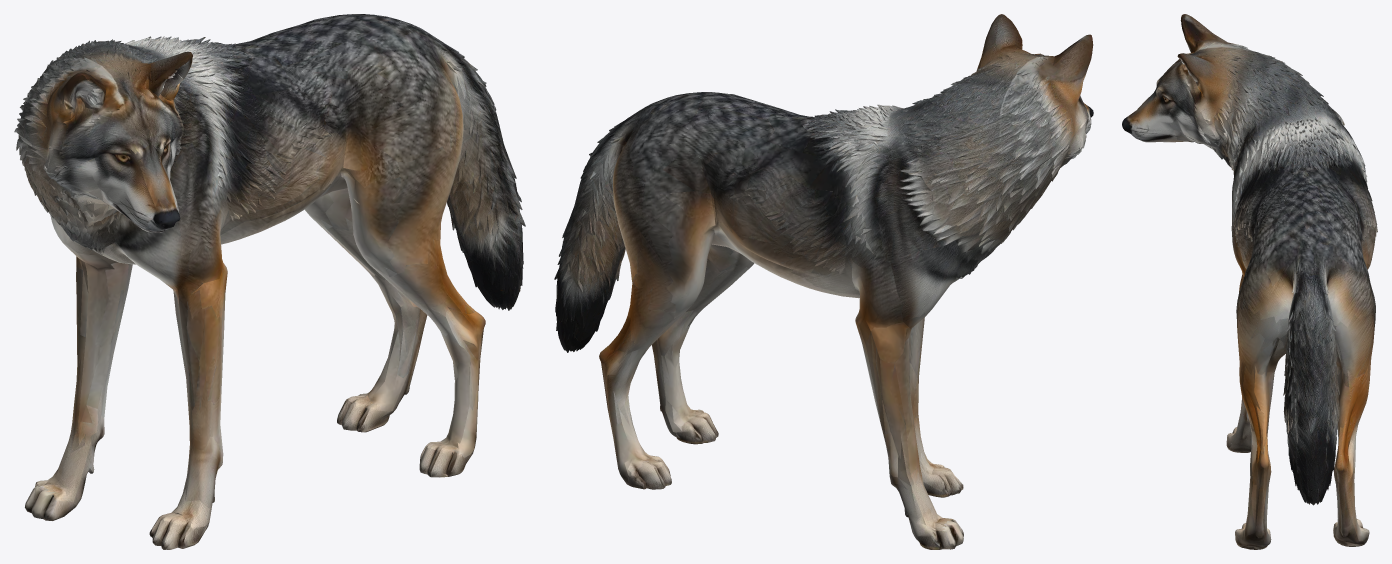
Rendered from gray-wolf.glb.
3 renders of one model, left to right at view 1: azimuth 30°, elevation 25°; view 2: azimuth 150°, elevation 25°; view 3: azimuth 270°, elevation 25°, orthographic. The views are drawn at different scales.
Size of the model in its own units: 1.9 by 1.78 by 1.07.
Materials: 1 (1 with a texture image).
